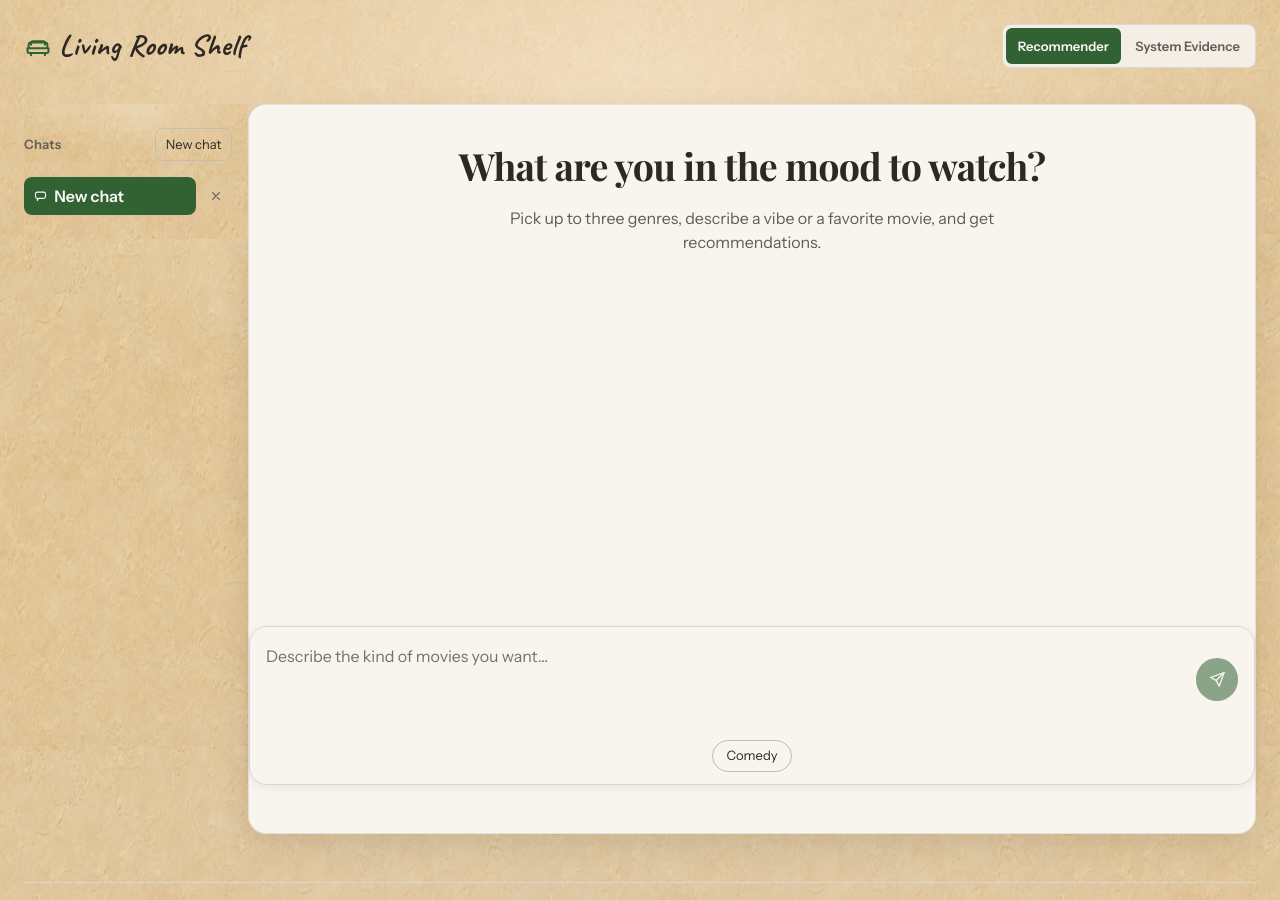
Scenario: App conversational RAG chat › submits disambiguation picks with replace seed mode
Type "zzzznotamovie" into the text box with placeholder "Describe the kind of movies you want…" at (728, 679), box [266, 639, 1190, 720]
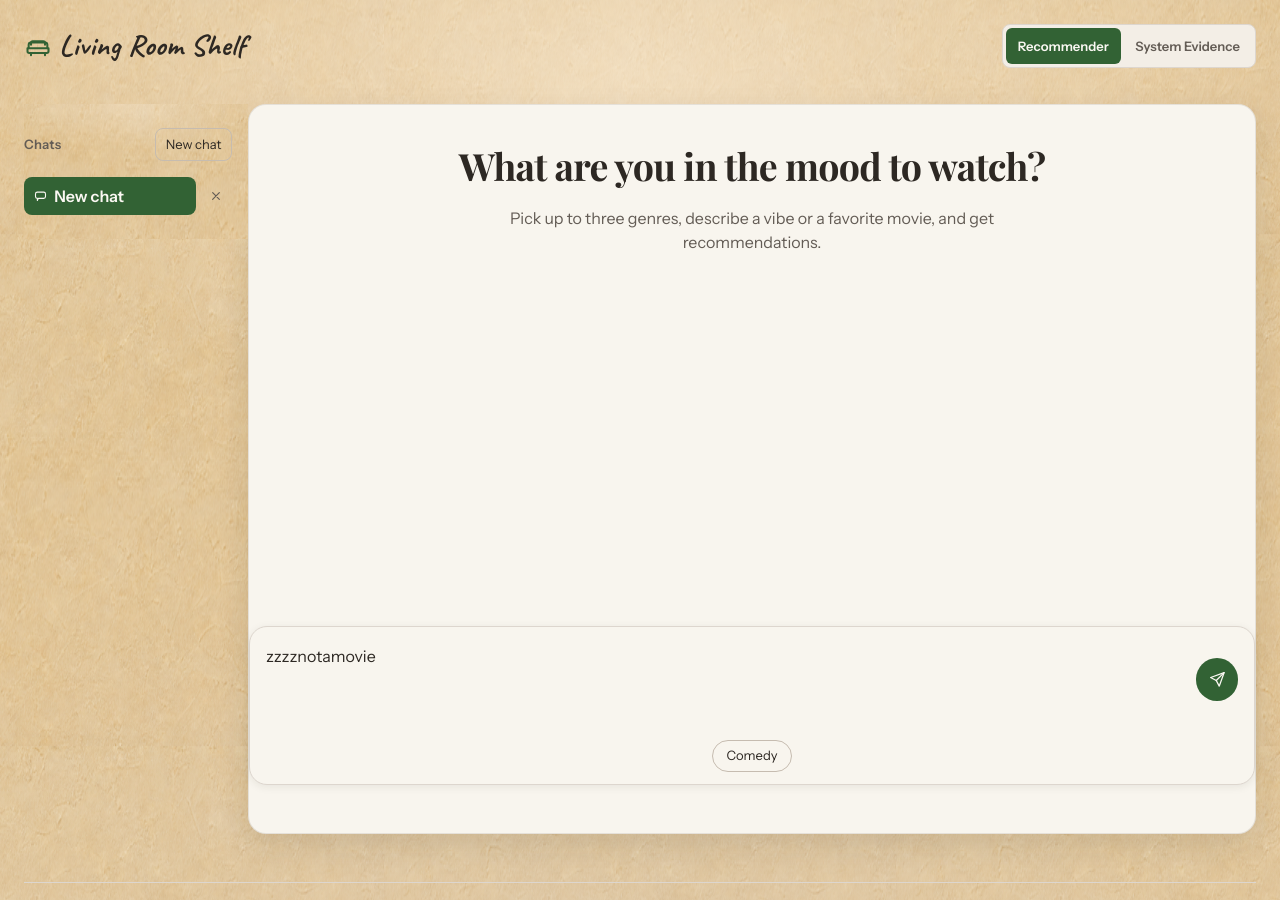
Click the button named "Send" at (1217, 679), box [1196, 658, 1238, 700]
(page scrolled)
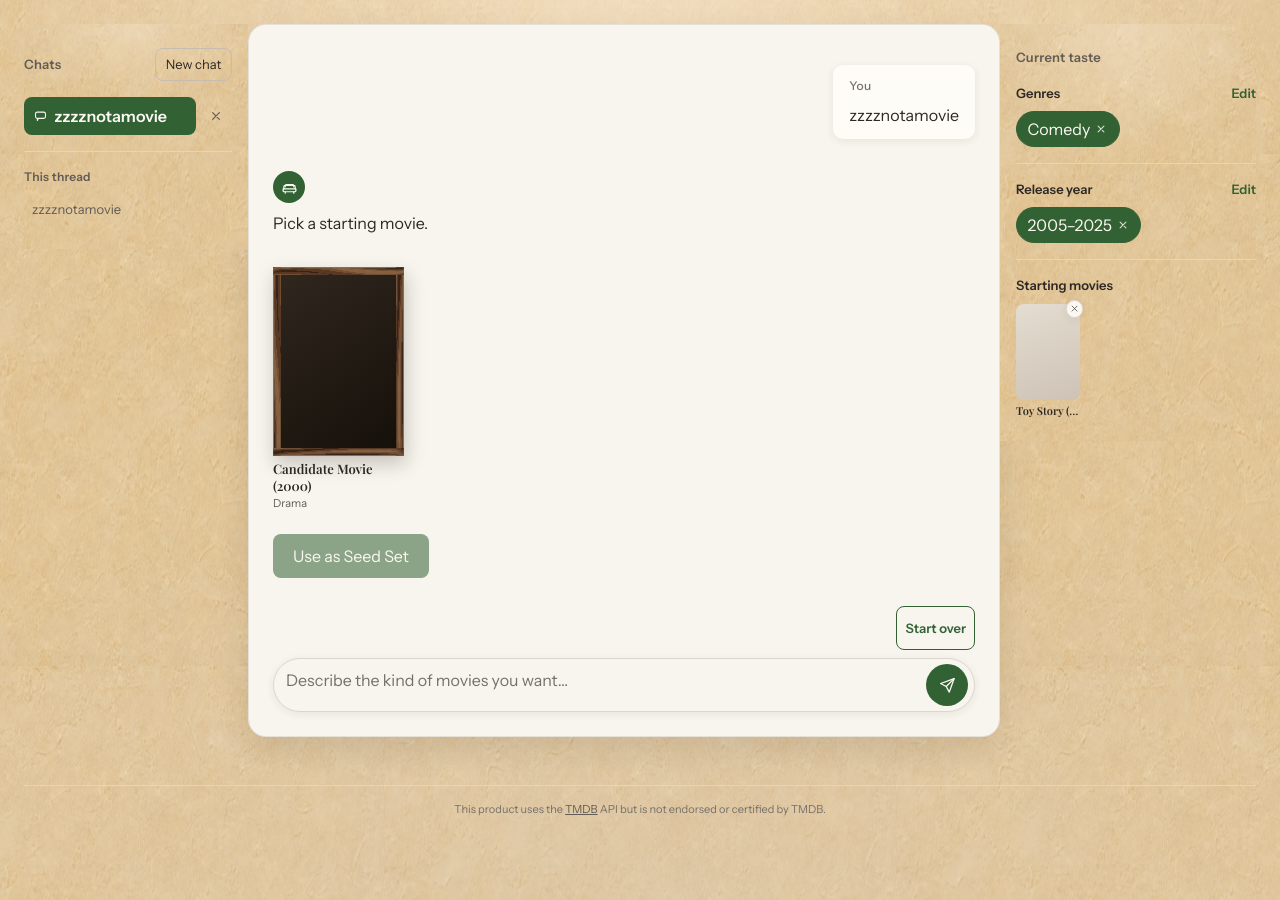
Now the button "Use as Seed Set" is shown, box [273, 534, 429, 578]
Click the button named "Candidate Movie" at (338, 362), box [273, 267, 404, 456]
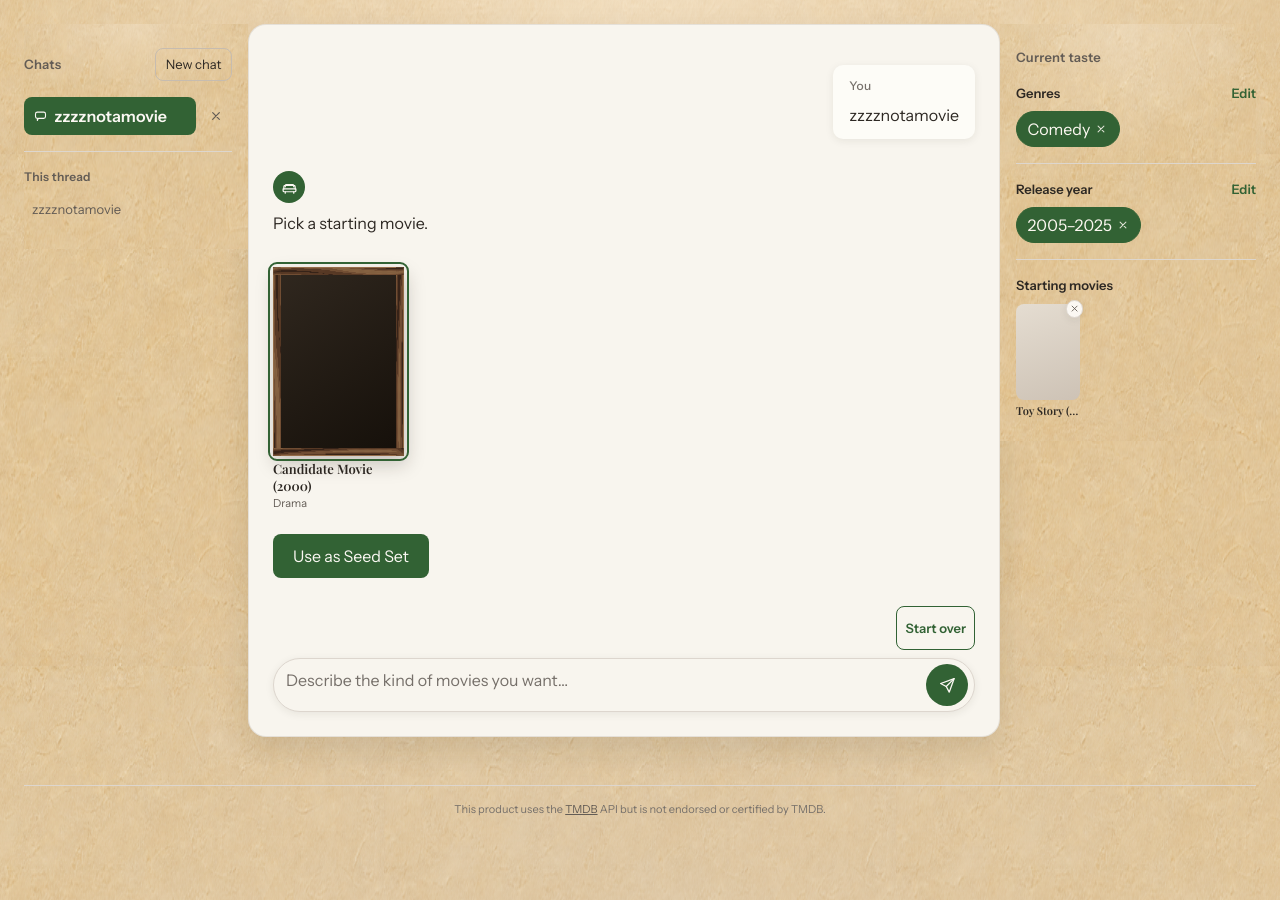
Click the button "Use as Seed Set" at (351, 556), box [273, 534, 429, 578]
(page scrolled)
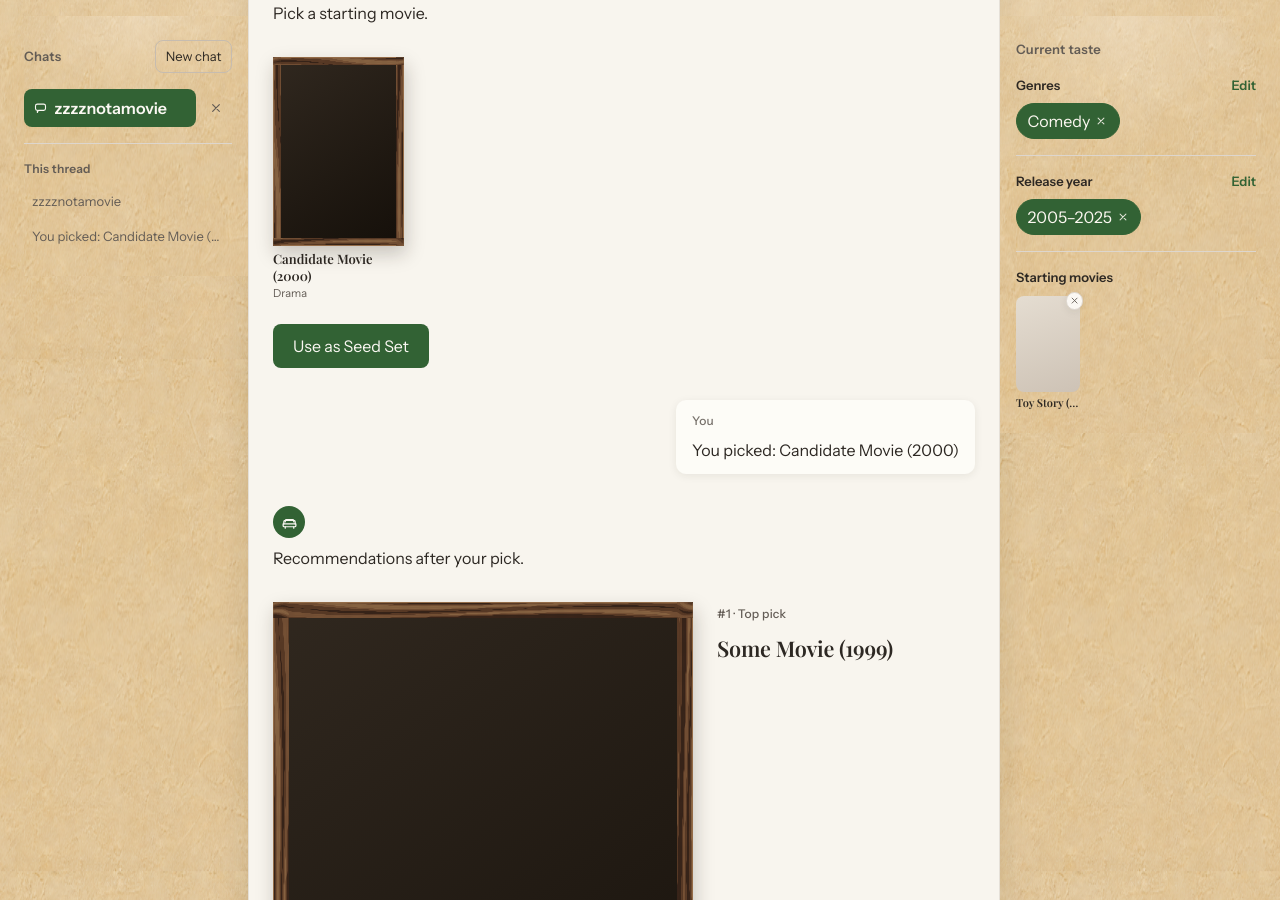
Now the text "Recommendations after your pick." is shown, box [273, 548, 524, 568]
Now the text "You picked: Candidate Movie (2000)" is shown, box [692, 438, 959, 462]
